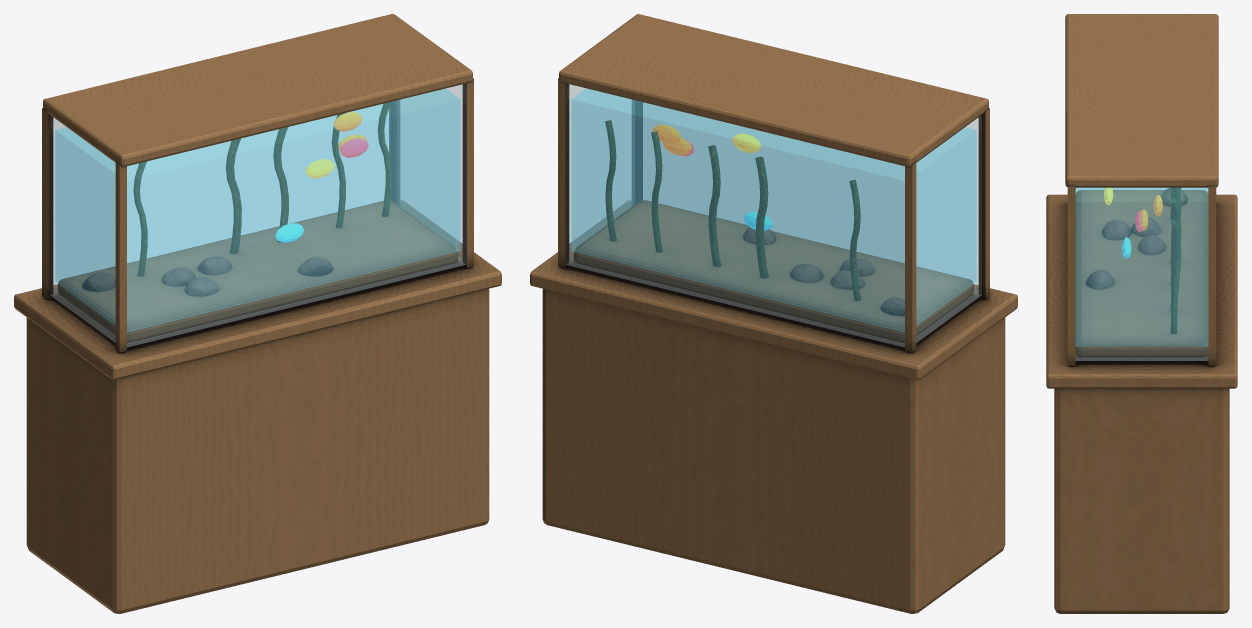
File: deco_aquario.glb
3 renders of one model, left to right at view 1: azimuth 30°, elevation 25°; view 2: azimuth 150°, elevation 25°; view 3: azimuth 270°, elevation 25°, orthographic. The views are drawn at different scales.
Parts seen in each view (by area): view 1: deco_aquario_tronco, vidro, agua; view 2: deco_aquario_tronco, vidro, agua; view 3: deco_aquario_tronco, vidro, agua.
Part boxes in pixels (<box>): deco_aquario_tronco: <box>14,14,501,613</box>; vidro: <box>50,84,465,347</box>; agua: <box>55,89,460,331</box>; deco_aquario_tronco: <box>530,14,1017,613</box>; vidro: <box>566,84,981,347</box>; agua: <box>571,88,976,331</box>; deco_aquario_tronco: <box>1046,14,1237,613</box>; vidro: <box>1076,188,1207,360</box>; agua: <box>1076,188,1207,346</box>.
Bounding box in the file's own units: 1.35 × 1.5 × 0.6.
8 materials, 1 textured.
